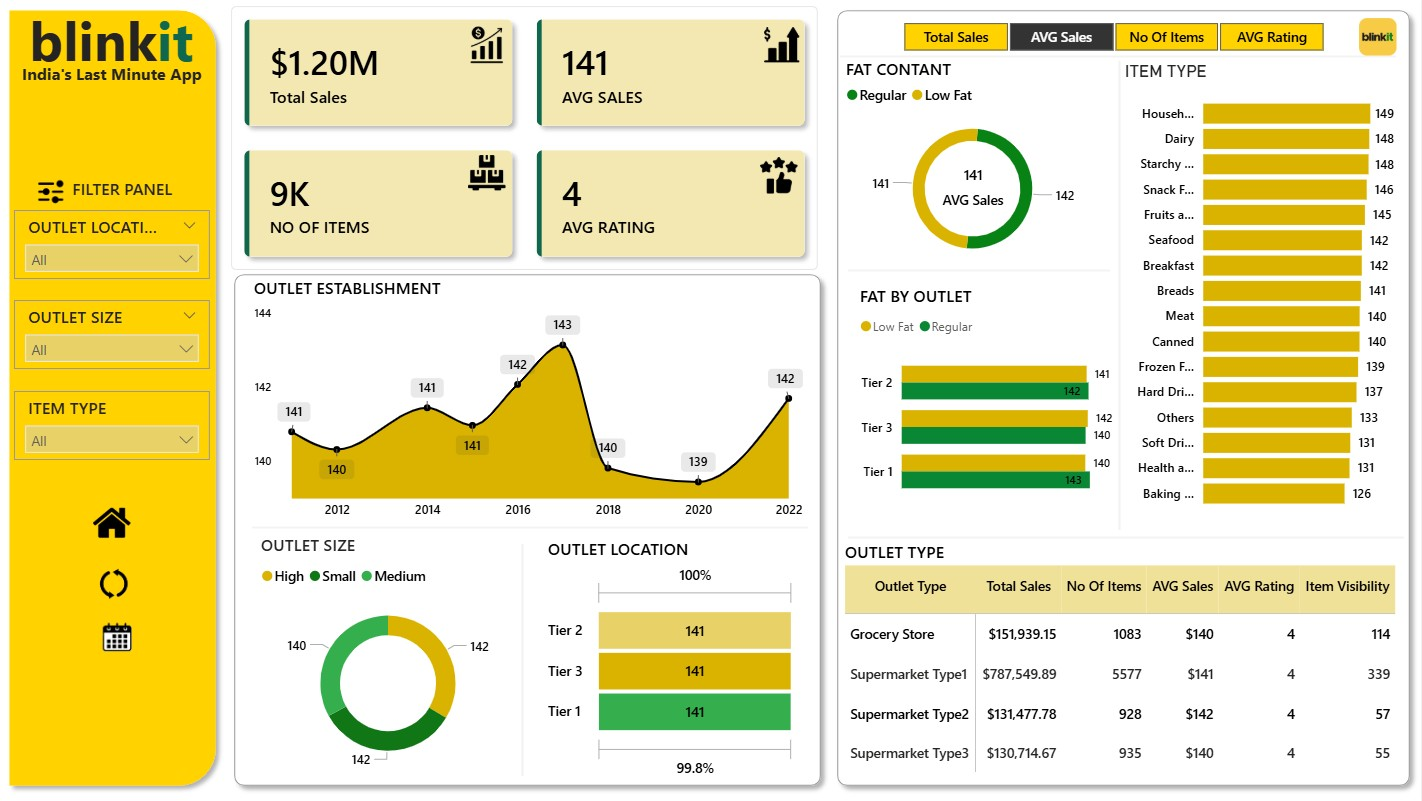

Layout of this report page (visuals, bound fields, positions):
{"tool":"powerbi","page":{"name":"Blinkit_Dashboard","canvas":[1400,800],"ordinal":0},"visuals":[{"type":"shape","box":[0,6.9,221.7,782.3],"z":0},{"type":"textbox","box":[7.9,6.9,203.9,80.8],"z":1000},{"type":"textbox","box":[13.8,63.1,193.1,32.5],"z":2000},{"type":"textbox","box":[273.9,70.9,108.4,32.5],"z":3000},{"type":"textbox","box":[278.8,103.4,98.5,32.5],"z":4000},{"type":"cardVisual","fields":{"Data":["BlinkIT Grocery Data.Total Sales","BlinkIT Grocery Data.AVG Sales","BlinkIT Grocery Data.No Of Items","BlinkIT Grocery Data.AVG Rating"]},"box":[221.7,6,590,273.9],"z":5000},{"type":"shape","box":[221.7,267,596.1,522.2],"z":6000},{"type":"shape","box":[815.8,6.9,582.3,782.3],"z":7000},{"type":"donutChart","title":"FAT CONTANT","fields":{"Y":["BlinkIT Grocery Data.AVG Sales"],"Category":["BlinkIT Grocery Data.Item Fat Content"]},"box":[828.6,63.1,259.1,212.8],"z":8000},{"type":"slicer","fields":{"Values":["Metrics.Metrics"]},"box":[865,21.7,463.1,40.4],"z":9000},{"type":"card","fields":{"Values":["BlinkIT Grocery Data.AVG Sales"]},"box":[925.1,169.5,67,39.4],"z":10000},{"type":"clusteredBarChart","title":"FAT BY OUTLET ","fields":{"Y":["BlinkIT Grocery Data.AVG Sales"],"Category":["BlinkIT Grocery Data.Outlet Location Type"],"Series":["BlinkIT Grocery Data.Item Fat Content"]},"box":[842.4,286.7,259.1,224.6],"z":11000},{"type":"barChart","title":"ITEM TYPE","fields":{"Y":["BlinkIT Grocery Data.AVG Sales"],"Category":["BlinkIT Grocery Data.Item Type"]},"box":[1103.4,66,274.9,451.2],"z":12000},{"type":"shape","box":[507.4,541.9,14.8,228.6],"z":14000},{"type":"shape","box":[827.6,55.2,547.8,12.8],"z":15000},{"type":"areaChart","title":"OUTLET ESTABLISHMENT","fields":{"Y":["BlinkIT Grocery Data.AVG Sales"],"Category":["BlinkIT Grocery Data.Outlet Establishment Year"]},"box":[245.3,278.8,550.7,247.3],"z":16000},{"type":"shape","box":[248.3,519.2,547.8,12.8],"z":17000},{"type":"shape","box":[835.5,529.1,547.8,12.8],"z":18000},{"type":"donutChart","title":"OUTLET SIZE","fields":{"Y":["BlinkIT Grocery Data.AVG Sales"],"Category":["BlinkIT Grocery Data.Outlet Size"]},"box":[252.2,532,260.1,244.3],"z":19000},{"type":"shape","box":[1096.6,66,12.8,462.1],"z":20000},{"type":"funnel","title":"OUTLET LOCATION","fields":{"Y":["BlinkIT Grocery Data.AVG Sales"],"Category":["BlinkIT Grocery Data.Outlet Location Type"]},"box":[535,536,254.2,241.4],"z":21000},{"type":"pivotTable","title":"OUTLET TYPE","fields":{"Rows":["BlinkIT Grocery Data.Outlet Type"],"Values":["BlinkIT Grocery Data.Total Sales","BlinkIT Grocery Data.No Of Items","BlinkIT Grocery Data.AVG Sales","BlinkIT Grocery Data.AVG Rating","Sum(BlinkIT Grocery Data.Item Visibility)"]},"box":[827.6,538.9,558.6,238.4],"z":22000},{"type":"slicer","fields":{"Values":["BlinkIT Grocery Data.Outlet Location Type"]},"box":[13.8,212.8,193,68],"z":23000},{"type":"slicer","fields":{"Values":["BlinkIT Grocery Data.Outlet Size"]},"box":[13.8,301.5,193.1,68],"z":24000},{"type":"slicer","fields":{"Values":["BlinkIT Grocery Data.Item Type"]},"box":[13.8,391.1,193.1,68],"z":25000},{"type":"textbox","box":[65,176.4,111.3,36.5],"z":26000},{"type":"image","box":[35.5,181.3,29.6,26.6],"z":27000},{"type":"image","box":[91.6,500.5,37.4,41.4],"z":28000},{"type":"image","box":[91.6,558.6,41.4,45.3],"z":29000},{"type":"image","box":[91.6,612.8,48.3,45.3],"z":30000},{"type":"image","box":[461.1,29.6,37.4,41.4],"z":31000},{"type":"image","box":[751.7,29.6,37.4,41.4],"z":32000},{"type":"image","box":[461.1,155.7,37.4,41.4],"z":33000},{"type":"image","box":[745.8,160.6,43.3,36.5],"z":34000},{"type":"image","box":[1338.9,21.7,37.4,41.4],"z":35000},{"type":"shape","box":[835.5,266,258.1,12.8],"z":35001}]}

Visuals, with their boxes in screenshot pixels (x1, y1, x2, y2), scaled from the page's 1400x800 canvas onto the 1422x801 screenshot:
shape: left=0, top=7, right=225, bottom=790
textbox: left=8, top=7, right=215, bottom=88
textbox: left=14, top=63, right=210, bottom=96
textbox: left=278, top=71, right=388, bottom=104
textbox: left=283, top=104, right=383, bottom=136
cardVisual - BlinkIT Grocery Data.Total Sales x BlinkIT Grocery Data.AVG Sales: left=225, top=6, right=824, bottom=280
shape: left=225, top=267, right=831, bottom=790
shape: left=829, top=7, right=1420, bottom=790
"FAT CONTANT" donutChart: left=842, top=63, right=1105, bottom=276
slicer - Metrics.Metrics: left=879, top=22, right=1349, bottom=62
card - BlinkIT Grocery Data.AVG Sales: left=940, top=170, right=1008, bottom=209
"FAT BY OUTLET " clusteredBarChart: left=856, top=287, right=1119, bottom=512
"ITEM TYPE" barChart: left=1121, top=66, right=1400, bottom=518
shape: left=515, top=543, right=530, bottom=771
shape: left=841, top=55, right=1397, bottom=68
"OUTLET ESTABLISHMENT" areaChart: left=249, top=279, right=809, bottom=527
shape: left=252, top=520, right=809, bottom=533
shape: left=849, top=530, right=1405, bottom=543
"OUTLET SIZE" donutChart: left=256, top=533, right=520, bottom=777
shape: left=1114, top=66, right=1127, bottom=529
"OUTLET LOCATION" funnel: left=543, top=537, right=802, bottom=778
"OUTLET TYPE" pivotTable: left=841, top=540, right=1408, bottom=778
slicer - BlinkIT Grocery Data.Outlet Location Type: left=14, top=213, right=210, bottom=281
slicer - BlinkIT Grocery Data.Outlet Size: left=14, top=302, right=210, bottom=370
slicer - BlinkIT Grocery Data.Item Type: left=14, top=392, right=210, bottom=460
textbox: left=66, top=177, right=179, bottom=213
image: left=36, top=182, right=66, bottom=208
image: left=93, top=501, right=131, bottom=543
image: left=93, top=559, right=135, bottom=605
image: left=93, top=614, right=142, bottom=659
image: left=468, top=30, right=506, bottom=71
image: left=764, top=30, right=802, bottom=71
image: left=468, top=156, right=506, bottom=197
image: left=758, top=161, right=802, bottom=197
image: left=1360, top=22, right=1398, bottom=63
shape: left=849, top=266, right=1111, bottom=279
